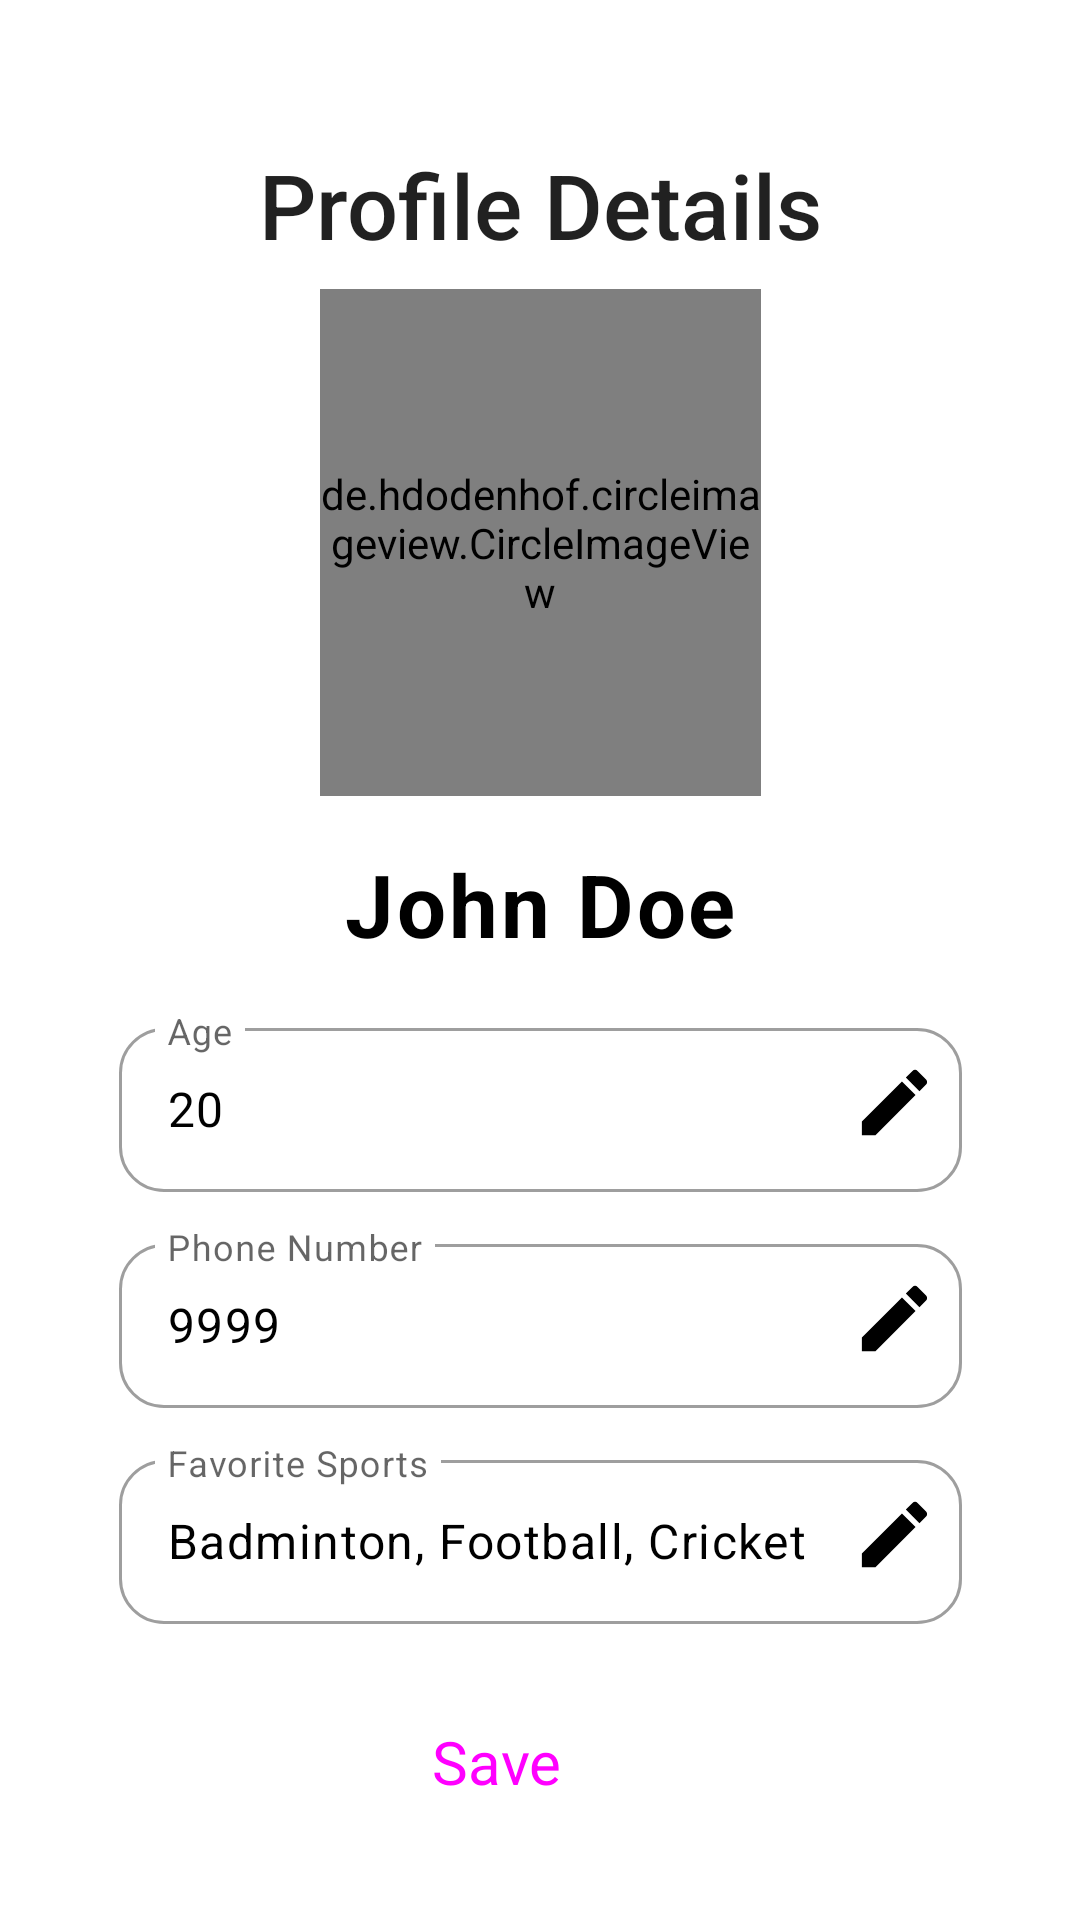

Where icons sit on this 1080×1920 app screen, as (x1, y1, x2, y2):
edit age: (861, 1069, 927, 1136), (861, 1285, 927, 1352), (861, 1501, 927, 1568)
